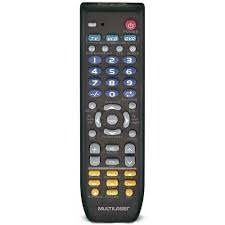remote control: (79, 0, 148, 225)
